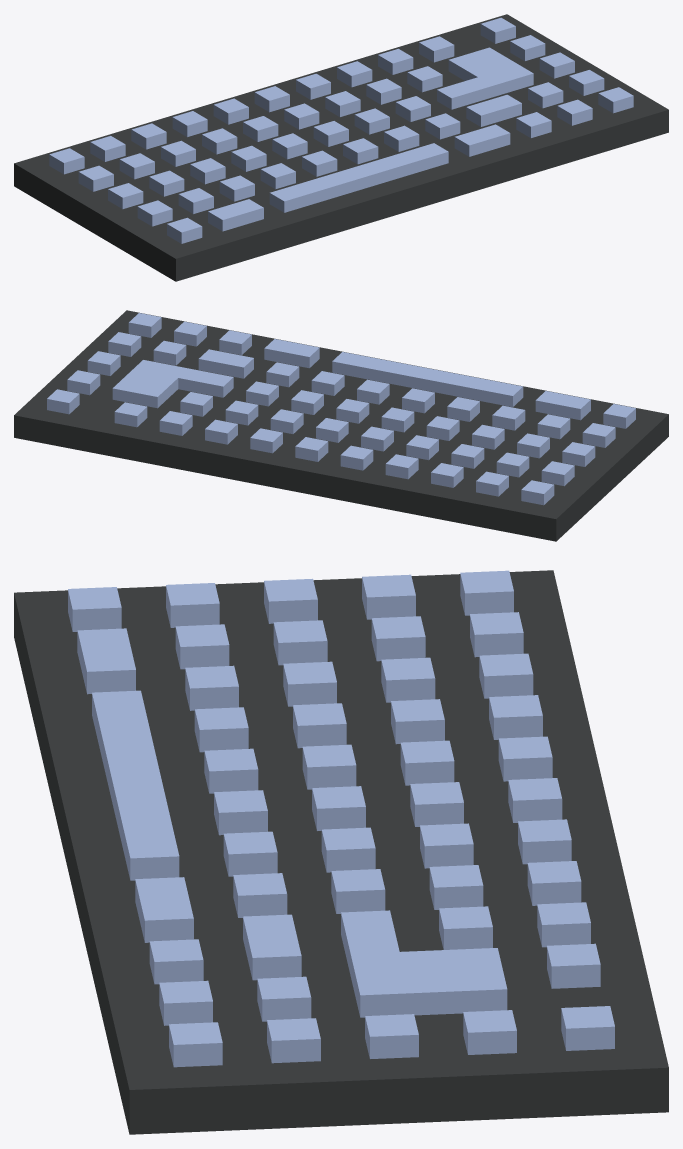
The model's file is keyboard_0_lev1_lev3.glb.
The picture shows the model from 3 angles, top to bottom: view 1: azimuth 30°, elevation 25°; view 2: azimuth 150°, elevation 25°; view 3: azimuth 270°, elevation 25°; orthographic projection. The views are drawn at different scales.
Parts seen in each view (by area): view 1: keyboard_0_lev1_lev3; view 2: keyboard_0_lev1_lev3; view 3: keyboard_0_lev1_lev3.
Part boxes in pixels (x1=…): keyboard_0_lev1_lev3: x1=14, y1=14, x2=668, y2=281; keyboard_0_lev1_lev3: x1=14, y1=310, x2=668, y2=541; keyboard_0_lev1_lev3: x1=14, y1=570, x2=668, y2=1134.
Bounding box in the file's own units: 1.12 × 0.0673 × 0.596.
Materials: 1 (1 with a texture image).
